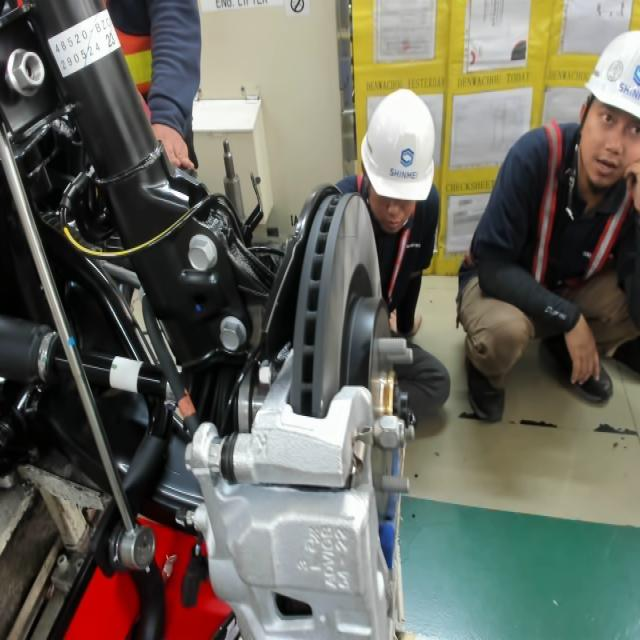Absorber LH-23: (101, 29, 121, 53)
Disc-HT: (338, 259, 397, 465)
Drive Shaft-PT: (105, 350, 144, 396)
